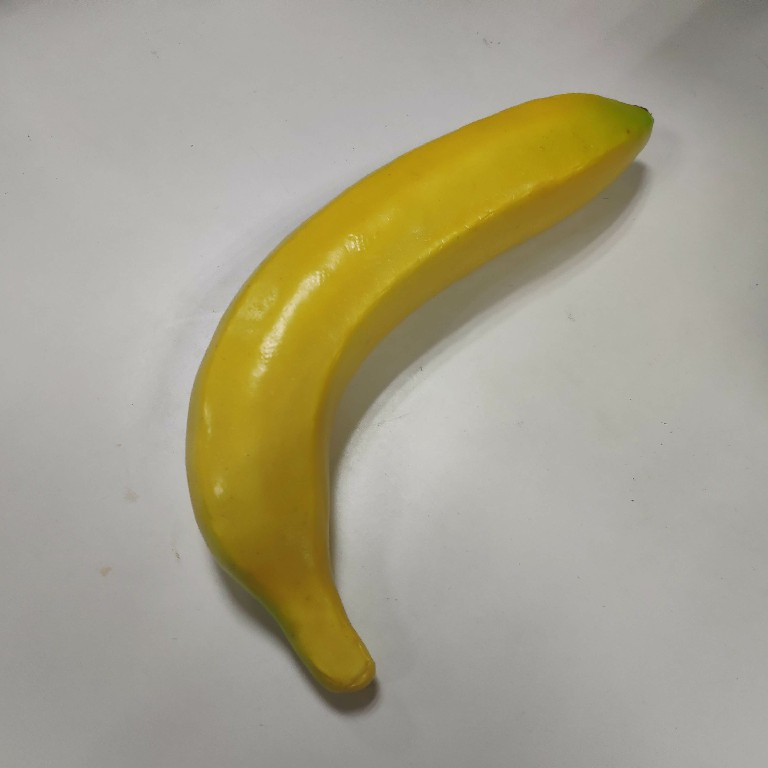fruit_banana: (181, 86, 659, 698)
